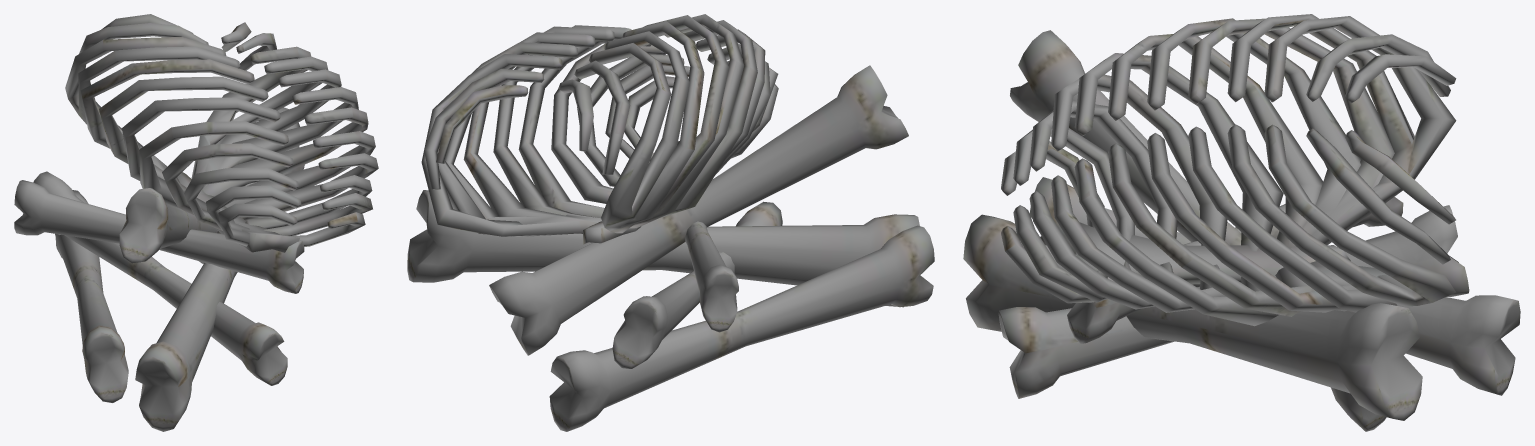
File: Dungeon_BonePile_3.glb
3 views of the same model, side by side, from view 1: azimuth 30°, elevation 25°; view 2: azimuth 150°, elevation 25°; view 3: azimuth 270°, elevation 25° (orthographic). The views are drawn at different scales.
Visible parts, largest first — view 1: Dungeon_BonePile_3; view 2: Dungeon_BonePile_3; view 3: Dungeon_BonePile_3.
Boxes of the visible parts, x1,y1,x2,y2 form: Dungeon_BonePile_3: (14,14,378,431); Dungeon_BonePile_3: (407,14,934,431); Dungeon_BonePile_3: (963,14,1520,431).
Size of the model in its own units: 0.6316 by 0.4975 by 0.6682.
Materials: 1 (1 with a texture image).
